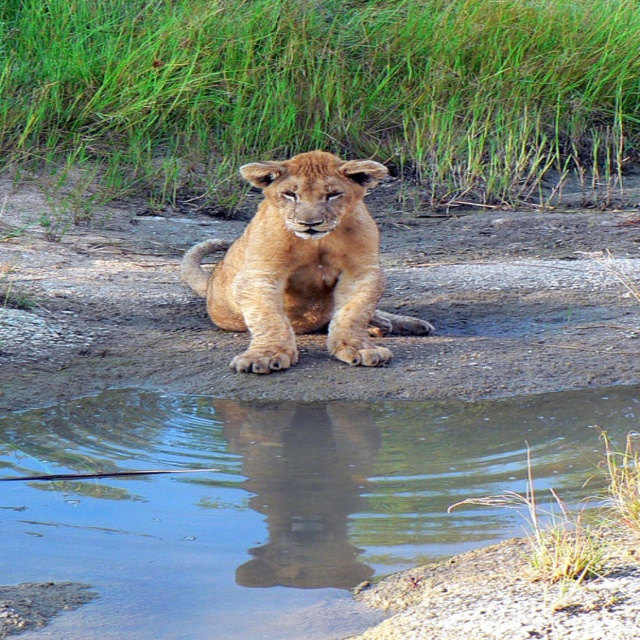Lion: (180, 150, 437, 374)
